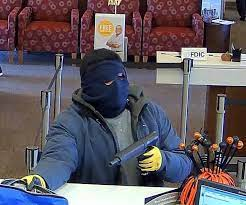gun: (104, 128, 164, 180)
